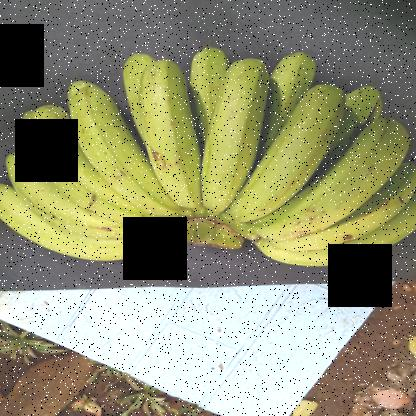freshunripe: (222, 83, 352, 221), (196, 61, 277, 217), (262, 46, 325, 102)
unripe: (223, 117, 411, 242), (21, 102, 150, 233), (63, 86, 175, 211), (127, 57, 208, 218), (1, 148, 136, 242), (277, 165, 416, 254)
